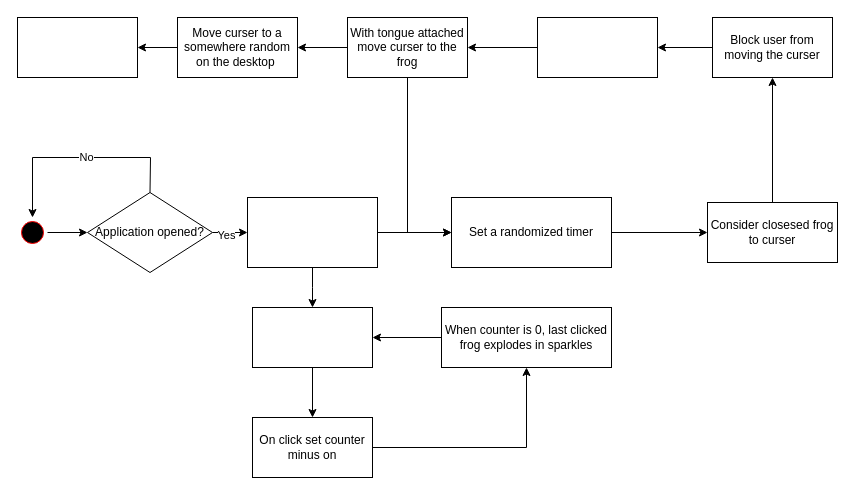
The diagram is 855 pixels wide and 495 high, and some of its shapes have lost their labels. Each missing label, with the centre of its shape:
"Animate frogs" goes at point (312, 232).
"Animate tongue" goes at point (597, 47).
"End the blocking of the curser" goes at point (77, 47).
"Set random counter" goes at point (312, 337).
